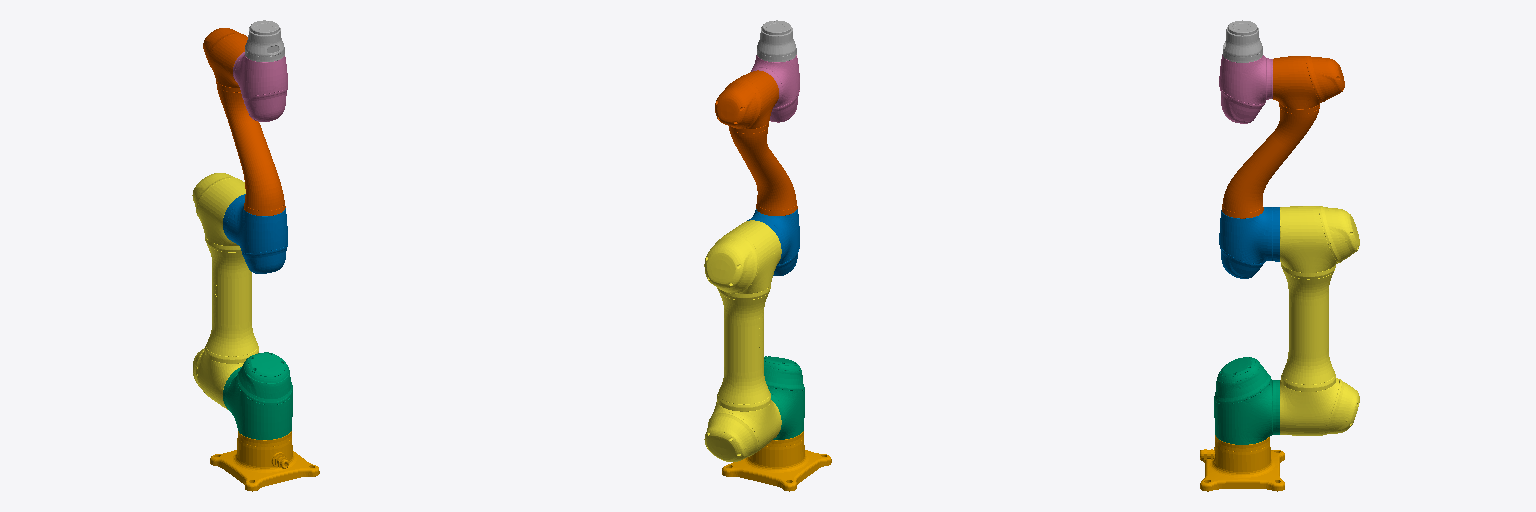
robot.urdf — a0509:
<?xml version="1.0"?>
<robot name="a0509" xmlns:xacro="http://www.ros.org/wiki/xacro">
		<link name="base_link">
			<inertial>
				<mass value="2.198"/>
				<origin xyz="-1e-06   -0.001096    0.058957"/>
				<inertia ixx="0.010511" ixy="4.9786e-06" ixz="7.1839e-06" iyy="0.012033"
					iyz="-2.3529e-05"
					izz="0.012481"/>
			</inertial>
			<collision>
				<origin rpy="0 0 0" xyz="0 0 0" />
                <geometry>
					<mesh filename="meshes/a0509_collision/A0509_0_0.stl" scale="1 1 1" />
                </geometry>
            </collision>
			<visual>
				<origin rpy="0 0 0" xyz="0 0 0" />
				<geometry>
					<mesh filename="meshes/a0509_white/A0509_0_0.stl" scale="1 1 1" />
				</geometry>
			</visual>
		</link>
		<link name="base"/>
		<joint name="base_link-base" type="fixed">
			<origin rpy="0 0 0" xyz="0 0 0.450"/>
			<parent link="base_link"/>
			<child link="base"/>
		</joint>
		<!-- joint 1 -->
		<joint name="joint_1" type="revolute">
			<parent link="base_link" />
			<child link="link_1" />
			<origin rpy="0 0 0" xyz="0 0 0.1560" />
			<axis xyz="0 0 1" />
			<limit effort="194" lower="-6.2832" upper="6.2832" velocity="3.1416"/>
			<dynamics friction="0" />
		</joint>
		<link name="link_1">
			<inertial>
				<mass value="3.715"/>
				<origin xyz="-6.9e-05    0.024423   -0.007375"/>
				<inertia ixx="0.01899" ixy="7.8574e-07" ixz="1.865e-05" iyy="0.013731" iyz="-0.00072828"
					izz="0.01686"/>
			</inertial>
            <collision>
				<origin rpy="0 0 0" xyz="0 0 0" />
                <geometry>
					<mesh filename="meshes/a0509_collision/A0509_1_0.stl" scale="1 1 1" />
                </geometry>
            </collision>
			<visual>
				<origin rpy="0 0 0" xyz="0 0 0" />
				<geometry>
					<mesh filename="meshes/a0509_white/A0509_1_0.stl" scale="1 1 1" />
				</geometry>
			</visual>
			<collision>
				<origin rpy="0 0 0" xyz="0 0 0" />
                <geometry>
					<mesh filename="meshes/a0509_collision/A0509_1_1.stl" scale="1 1 1" />
                </geometry>
            </collision>
            <visual>
				<origin rpy="0 0 0" xyz="0 0 0" />
				<geometry>
					<mesh filename="meshes/a0509_white/A0509_1_1.stl" scale="1 1 1" />
				</geometry>
			</visual>
			<collision>
				<origin rpy="0 0 0" xyz="0 0 0" />
                <geometry>
					<mesh filename="meshes/a0509_collision/A0509_1_2.stl" scale="1 1 1" />
                </geometry>
            </collision>
            <visual>
				<origin rpy="0 0 0" xyz="0 0 0" />
				<geometry>
					<mesh filename="meshes/a0509_white/A0509_1_2.stl" scale="1 1 1" />
				</geometry>
			</visual>
		</link>
		<!-- joint2 -->
		<joint name="joint_2" type="revolute">
			<parent link="link_1" />
			<child link="link_2" />
			<origin rpy="0 -1.571 -1.571" xyz="0 0 0" />
			<axis xyz="0 0 1" />
			<limit effort="194" lower="-6.2832" upper="6.2832" velocity="3.1416"/>
			<dynamics friction="0" />
		</joint>
		<link name="link_2">
			<inertial>
				<mass value="6.837"/>
				<origin xyz="0.20449 -1.2521e-17     0.13271"/>
				<inertia ixx="0.019399" ixy="0.00010317" ixz="4.2985e-06" iyy="0.25627" iyz="5.1674e-06"
					izz="0.25442"/>
			</inertial>
            <collision>
				<origin rpy="0 0 0" xyz="0 0 0" />
                <geometry>
					<mesh filename="meshes/a0509_collision/A0509_2_0.stl" scale="1 1 1" />
                </geometry>
            </collision>
			<visual>
				<origin rpy="0 0 0" xyz="0 0 0" />
				<geometry>
					<mesh filename="meshes/a0509_white/A0509_2_0.stl" scale="1 1 1" />
				</geometry>
			</visual>
			<collision>
				<origin rpy="0 0 0" xyz="0 0 0" />
                <geometry>
					<mesh filename="meshes/a0509_collision/A0509_2_1.stl" scale="1 1 1" />
                </geometry>
            </collision>
			<visual>
				<origin rpy="0 0 0" xyz="0 0 0" />
				<geometry>
					<mesh filename="meshes/a0509_white/A0509_2_1.stl" scale="1 1 1" />
				</geometry>
			</visual>
			<collision>
				<origin rpy="0 0 0" xyz="0 0 0" />
                <geometry>
					<mesh filename="meshes/a0509_collision/A0509_2_2.stl" scale="1 1 1" />
                </geometry>
            </collision>
			<visual>
				<origin rpy="0 0 0" xyz="0 0 0" />
				<geometry>
					<mesh filename="meshes/a0509_white/A0509_2_2.stl" scale="1 1 1" />
				</geometry>
			</visual>
		</link>
		<!-- joint3 -->
		<joint name="joint_3" type="revolute">
			<parent link="link_2" />
			<child link="link_3" />
			<origin rpy="0 0 1.571" xyz="0.409 0 0" />
			<axis xyz="0 0 1" />
			<limit effort="163" lower="-2.7925" upper="2.7925" velocity="3.1416"/>
			<dynamics friction="0" />
		</joint>
		<link name="link_3">
			<inertial>
				<mass value="2.769"/>
				<origin xyz="7.1e-05   -0.005123    0.033009"/>
				<inertia ixx="0.012526" ixy="-7.1869e-06" ixz="1.3345e-05" iyy="0.013868"
					iyz="-0.00047287"
					izz="0.0088186"/>
			</inertial>
			<collision>
				<origin rpy="0 0 0" xyz="0 0 0" />
                <geometry>
					<mesh filename="meshes/a0509_collision/A0509_3_0.stl" scale="1 1 1" />
                </geometry>
            </collision>
			<visual>
				<origin rpy="0 0 0" xyz="0 0 0" />
				<geometry>
					<mesh filename="meshes/a0509_white/A0509_3_0.stl" scale="1 1 1" />
				</geometry>
			</visual>
			<collision>
				<origin rpy="0 0 0" xyz="0 0 0" />
                <geometry>
					<mesh filename="meshes/a0509_collision/A0509_3_1.stl" scale="1 1 1" />
                </geometry>
            </collision>
            <visual>
				<origin rpy="0 0 0" xyz="0 0 0" />
				<geometry>
					<mesh filename="meshes/a0509_white/A0509_3_1.stl" scale="1 1 1" />
				</geometry>
			</visual>
		</link>
		<!-- joint4 -->
		<joint name="joint_4" type="revolute">
			<parent link="link_3" />
			<child link="link_4" />
			<origin rpy="1.571 0 0" xyz="0 -0.367 0" />
			<axis xyz="0 0 1" />
			<limit effort="50" lower="-6.2832" upper="6.2832" velocity="6.2832"/>
			<dynamics friction="0" />
		</joint>
		<link name="link_4">
			<inertial>
				<mass value="2.679"/>
				<origin xyz="-8.6e-05    0.086348   -0.086031"/>
				<inertia ixx="0.056068" ixy="2.2109e-05" ixz="1.4522e-05" iyy="0.047122" iyz="-0.014997"
					izz="0.013329"/>
			</inertial>
            <collision>
				<origin rpy="0 0 0" xyz="0 0 0" />
                <geometry>
					<mesh filename="meshes/a0509_collision/A0509_4_0.stl" scale="1 1 1" />
                </geometry>
            </collision>
			<visual>
				<origin rpy="0 0 0" xyz="0 0 0" />
				<geometry>
					<mesh filename="meshes/a0509_white/A0509_4_0.stl" scale="1 1 1" />
				</geometry>
			</visual>
			<collision>
				<origin rpy="0 0 0" xyz="0 0 0" />
                <geometry>
					<mesh filename="meshes/a0509_collision/A0509_4_1.stl" scale="1 1 1" />
                </geometry>
            </collision>
			<visual>
				<origin rpy="0 0 0" xyz="0 0 0" />
				<geometry>
					<mesh filename="meshes/a0509_white/A0509_4_1.stl" scale="1 1 1" />
				</geometry>
			</visual>
		</link>
		<!-- joint5 -->
		<joint name="joint_5" type="revolute">
			<parent link="link_4" />
			<child link="link_5" />
			<origin rpy="-1.571 0 0" xyz="0 0 0" />
			<axis xyz="0 0 1" />
			<limit effort="50" lower="-6.2832" upper="6.2832" velocity="6.2832"/>
			<dynamics friction="0" />
		</joint>
		<link name="link_5">
			<inertial>
				<mass value="2.051"/>
				<origin xyz="9.1e-05   -0.006457    0.015434"/>
				<inertia ixx="0.0090788" ixy="-5.3997e-06" ixz="8.3955e-06" iyy="0.0084721"
					iyz="-0.0001816"
					izz="0.010453"/>
			</inertial>
            <collision>
				<origin rpy="0 0 0" xyz="0 0 0" />
                <geometry>
					<mesh filename="meshes/a0509_collision/A0509_5_0.stl" scale="1 1 1" />
                </geometry>
            </collision>
			<visual>
				<origin rpy="0 0 0" xyz="0 0 0" />
				<geometry>
					<mesh filename="meshes/a0509_white/A0509_5_0.stl" scale="1 1 1" />
				</geometry>
			</visual>
			<collision>
				<origin rpy="0 0 0" xyz="0 0 0" />
                <geometry>
					<mesh filename="meshes/a0509_collision/A0509_5_1.stl" scale="1 1 1" />
                </geometry>
            </collision>
            <visual>
				<origin rpy="0 0 0" xyz="0 0 0" />
				<geometry>
					<mesh filename="meshes/a0509_white/A0509_5_1.stl" scale="1 1 1" />
				</geometry>
			</visual>
		</link>
		<!-- joint6 -->
		<joint name="joint_6" type="revolute">
			<parent link="link_5" />
			<child link="link_6" />
			<origin rpy="1.571 0 0" xyz="0 -0.124 0" />
			<axis xyz="0 0 1" />
			<limit effort="50" lower="-6.2832" upper="6.2832" velocity="6.2832"/>
			<dynamics friction="0" />
		</joint>
		<link name="link_6">
			<inertial>
				<mass value="0.773"/>
				<origin xyz="-2.2e-05      -7e-06   -0.051746"/>
				<inertia ixx="0.0087483" ixy="7.9428e-06" ixz="1.7034e-06" iyy="0.0078566"
					iyz="9.6857e-06"
					izz="0.0044452"/>
			</inertial>
			<collision>
				<origin rpy="0 0 0" xyz="0 0 0" />
                <geometry>
					<mesh filename="meshes/a0509_collision/A0509_6_0.stl" scale="1 1 1" />
                </geometry>
            </collision>
			<visual>
				<origin rpy="0 0 0" xyz="0 0 0" />
				<geometry>
					<mesh filename="meshes/a0509_white/A0509_6_0.stl" scale="1 1 1" />
				</geometry>
			</visual>
		</link>
		<!-- <link name="tool0"/>
		<joint name="joint_6-tool0" type="fixed">
			<origin rpy="3.1415926535 -1.570796327 0" xyz="0 0 0"/>
			<parent link="link_6"/>
			<child link="tool0"/>
		</joint> -->
</robot>

--- What the picture shows (computed from the rendered views, not written in the file) ---
3 views of the same robot in one strip: view 1: azimuth 30°, elevation 25°; view 2: azimuth 150°, elevation 25°; view 3: azimuth 270°, elevation 25° (orthographic).
Model a0509 with 8 links and 7 joints (6 revolute, 1 fixed), rooted at base_link, posed every joint at zero.
Visible links, largest first — view 1: link_2, link_4, link_1, base_link, link_3, link_5, link_6; view 2: link_2, link_4, base_link, link_1, link_5, link_3, link_6; view 3: link_2, link_4, link_1, base_link, link_3, link_5, link_6.
Link boxes in pixels (x1,y1,x2,y2): link_2: (192, 173, 258, 409); link_4: (203, 28, 285, 215); link_1: (223, 352, 292, 439); base_link: (210, 431, 319, 491); link_3: (223, 194, 287, 273); link_5: (233, 52, 287, 121); link_6: (245, 20, 284, 61); link_2: (704, 220, 781, 461); link_4: (715, 70, 797, 215); base_link: (722, 431, 831, 491); link_1: (764, 356, 804, 439); link_5: (751, 55, 799, 122); link_3: (747, 209, 799, 275); link_6: (757, 20, 796, 61); link_2: (1280, 206, 1359, 435); link_4: (1222, 56, 1344, 218); link_1: (1214, 357, 1279, 444); base_link: (1200, 435, 1284, 491); link_3: (1219, 207, 1279, 278); link_5: (1219, 55, 1272, 123); link_6: (1222, 20, 1262, 62).
Bounding box of the posed robot: 0.182 × 0.342 × 1.06 m (x, y, z).
Meshes: 14 distinct files referenced, 14 mesh visuals loaded (14 binary STL).
